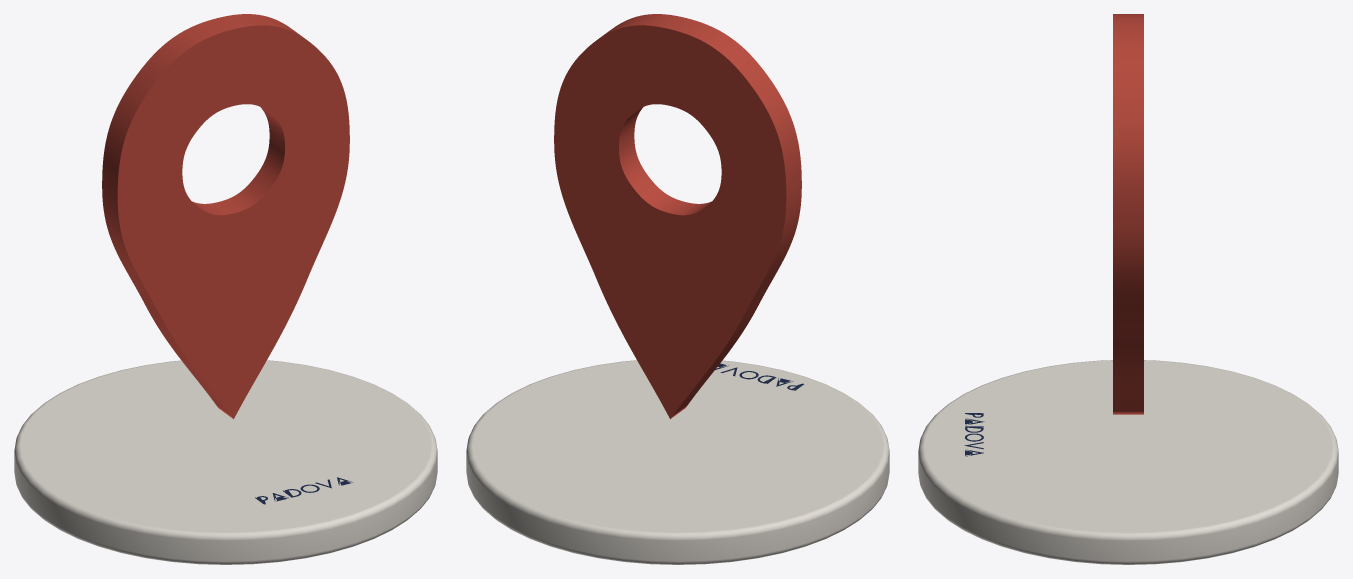
Rendered from 12_location.glb.
3 views of the same model, side by side, from view 1: azimuth 30°, elevation 25°; view 2: azimuth 150°, elevation 25°; view 3: azimuth 270°, elevation 25° (orthographic).
Parts seen in each view (by area): view 1: Pin_Platform, Location_Pin; view 2: Pin_Platform, Location_Pin; view 3: Pin_Platform, Location_Pin.
Boxes of the visible parts, box(x1,y1,x2,y2) form: Pin_Platform: box(14, 360, 437, 564); Location_Pin: box(102, 14, 349, 419); Pin_Platform: box(466, 360, 889, 564); Location_Pin: box(554, 14, 801, 419); Pin_Platform: box(918, 360, 1338, 564); Location_Pin: box(1113, 14, 1143, 414).
Size of the model in its own units: 0.6 by 0.71 by 0.6.
